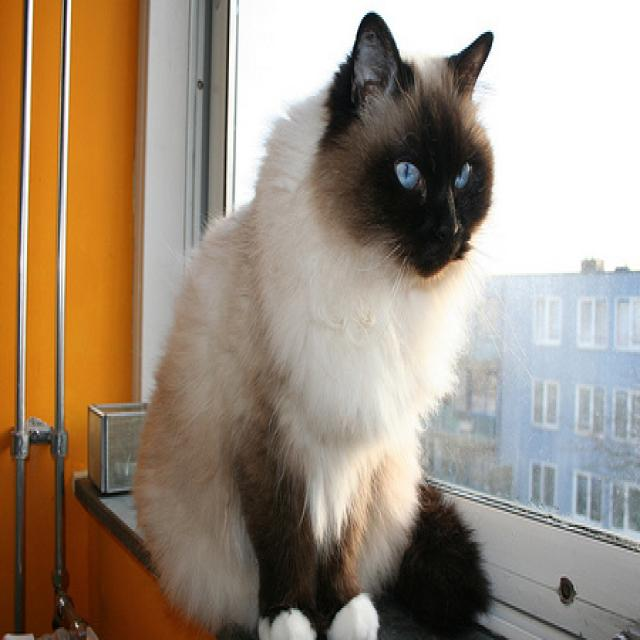Birman: (128, 4, 498, 640)
